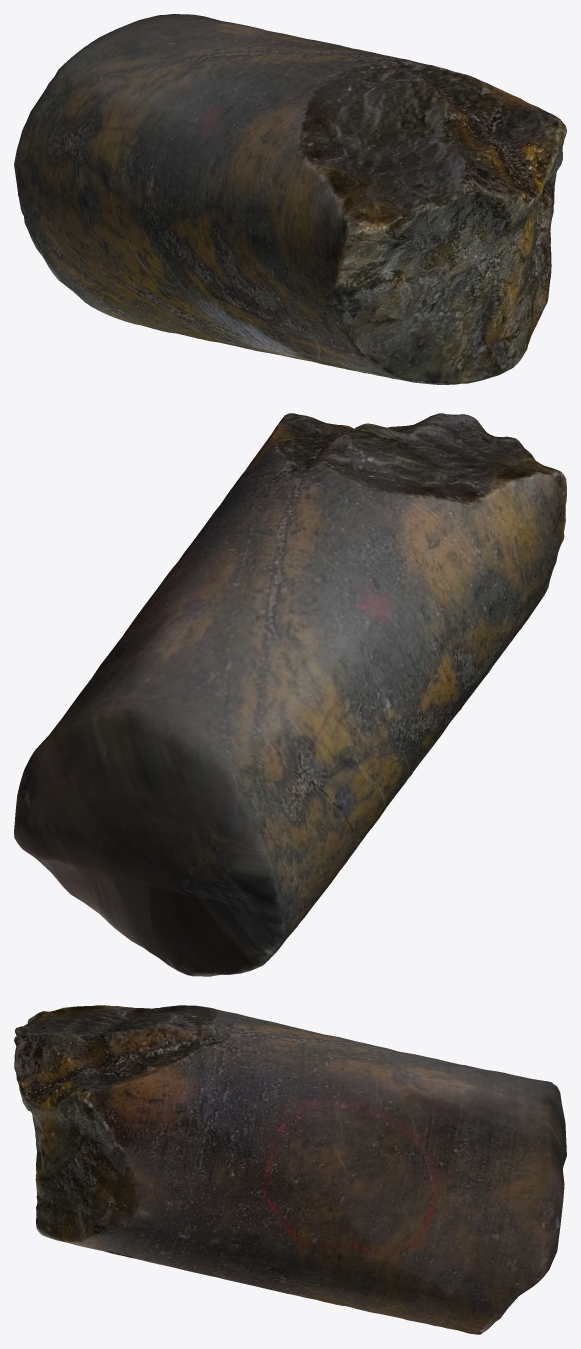
File: PECLD07757 T5.glb
3 renders of one model, top to bottom at view 1: azimuth 30°, elevation 25°; view 2: azimuth 150°, elevation 25°; view 3: azimuth 270°, elevation 25°, orthographic. The views are drawn at different scales.
Visible parts, largest first — view 1: baked_mesh; view 2: baked_mesh; view 3: baked_mesh.
Boxes of the visible parts, x1,y1,x2,y2 form: baked_mesh: (14, 14, 566, 384); baked_mesh: (14, 413, 566, 976); baked_mesh: (14, 1005, 566, 1334).
Size of the model in its own units: 0.2607 by 0.3295 by 0.5231.
1 material, 1 textured.
